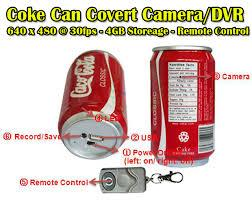Aluminum can: (146, 34, 227, 169), (58, 44, 124, 157)
